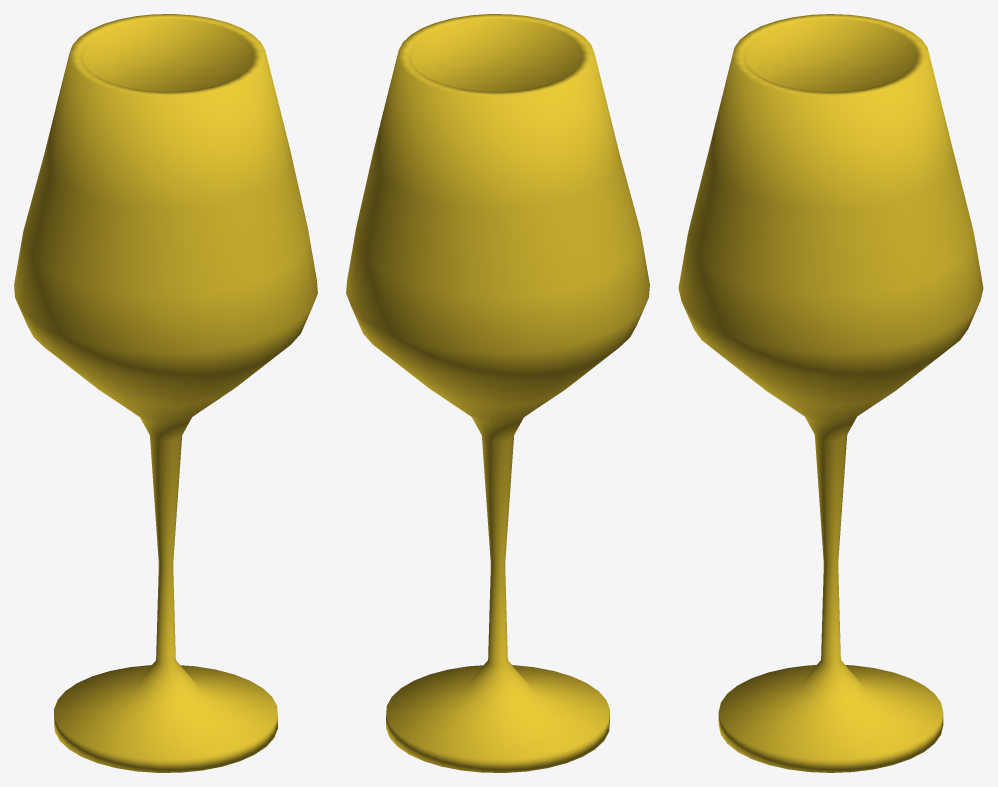
The model's file is wineglass.glb.
3 renders of one model, left to right at view 1: azimuth 30°, elevation 25°; view 2: azimuth 150°, elevation 25°; view 3: azimuth 270°, elevation 25°, orthographic.
Parts seen in each view (by area): view 1: Cylinder; view 2: Cylinder; view 3: Cylinder.
Part boxes in pixels (box(x1,y1,x2,y2)): Cylinder: box(14, 14, 317, 772); Cylinder: box(346, 14, 649, 772); Cylinder: box(678, 14, 983, 772).
Size of the model in its own units: 0.3858 by 0.9362 by 0.3858.
